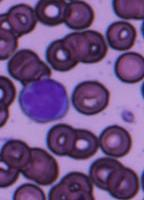M: (19, 77, 68, 123)
